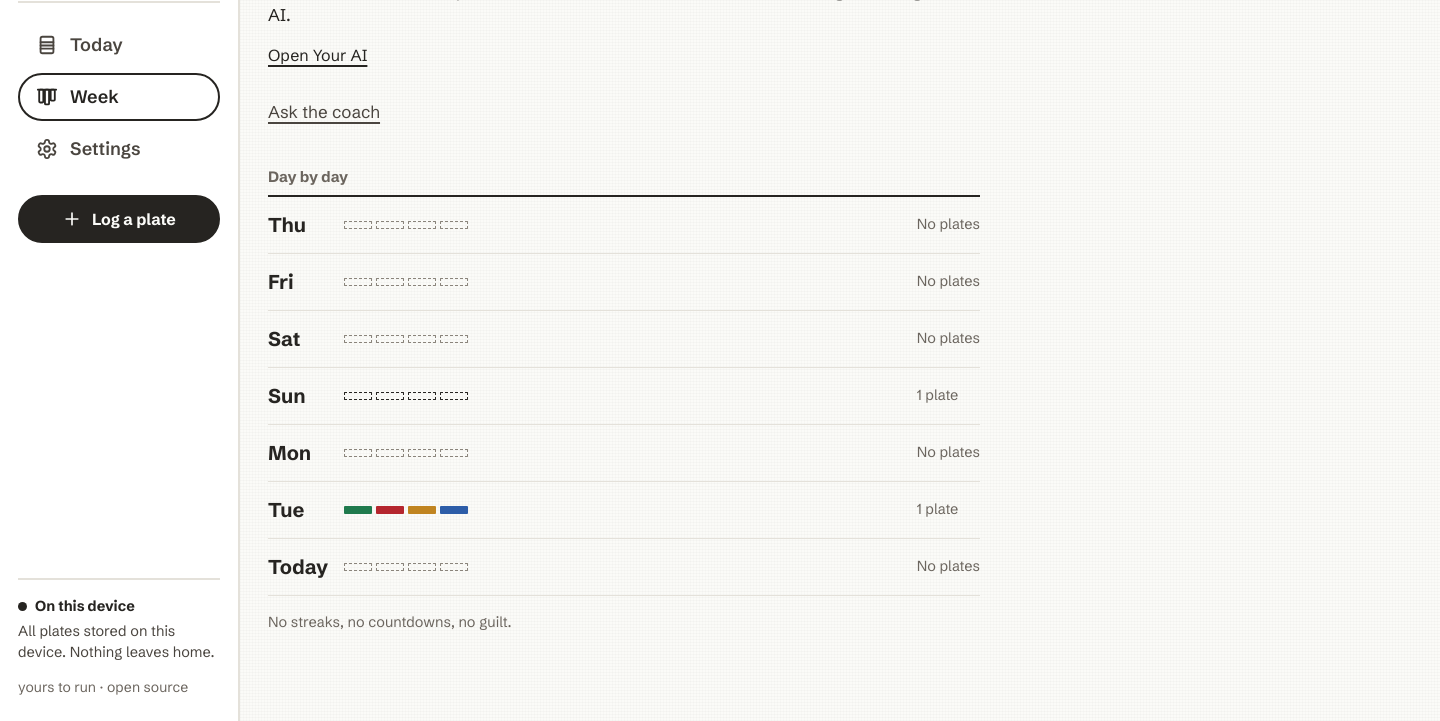
Test: WeekScreen › tapping a day selects it and shows it on Today
(page scrolled)
Click the button named "Tuesday: all four groups". click: (356, 520)
box: top-left (268, 482), bottom-right (980, 538)
(page scrolled)
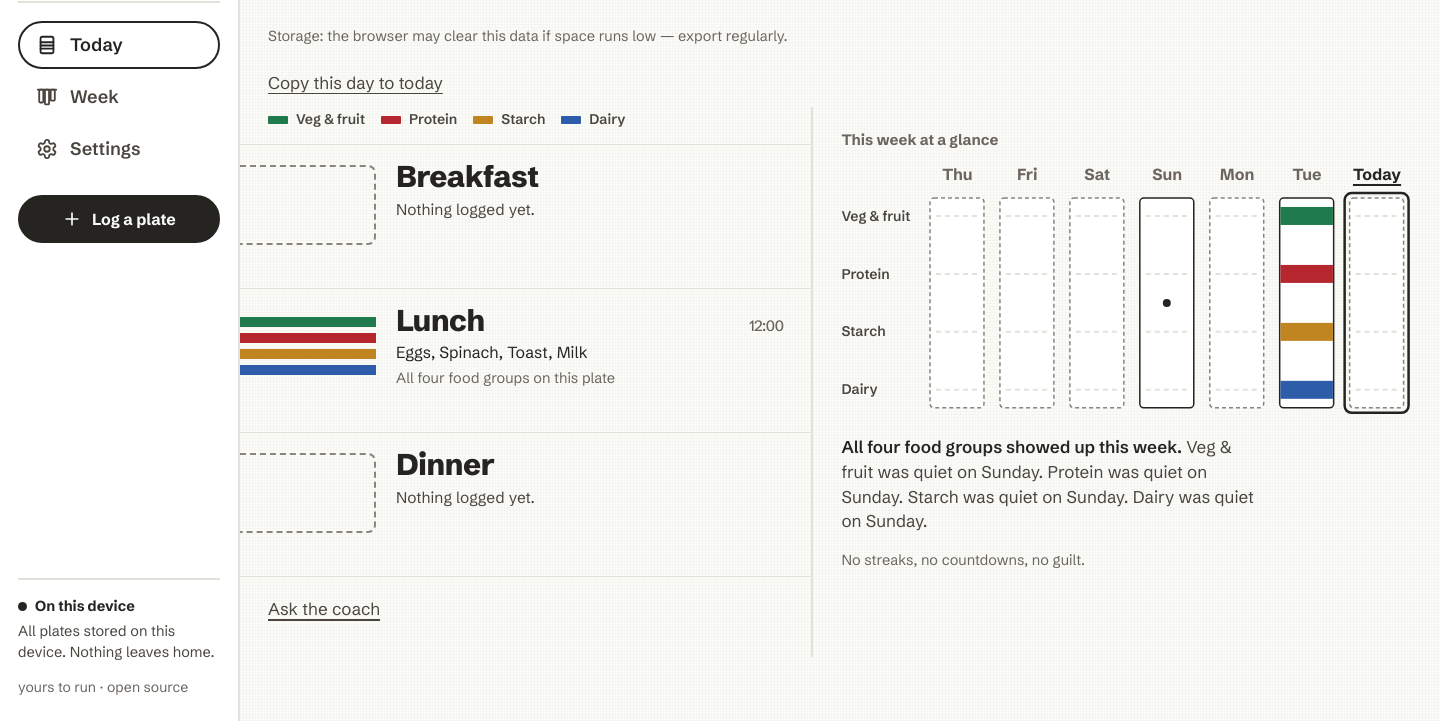
expect the text "Eggs, Spinach, Toast, Milk" is shown: met, box top-left (396, 342), bottom-right (588, 362)
